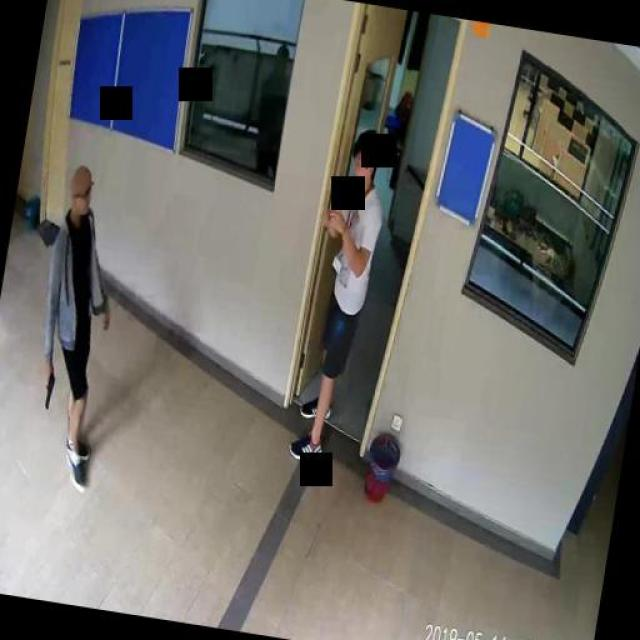gun: (36, 364, 55, 408)
